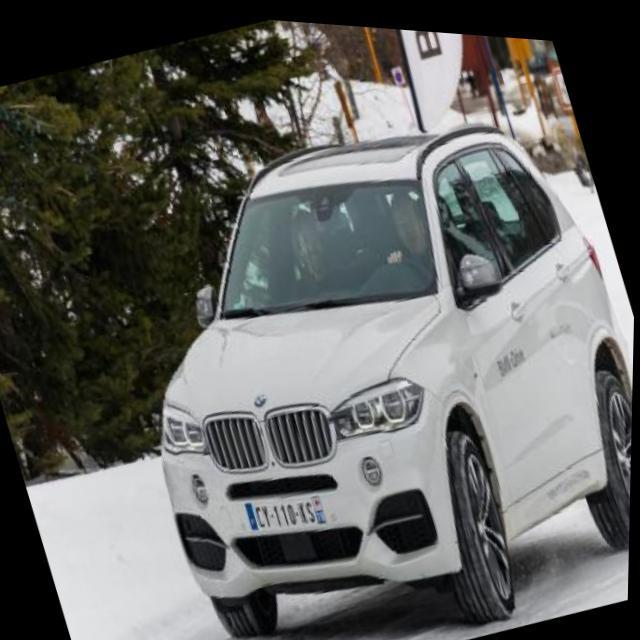license_plate: (246, 476, 332, 544)
